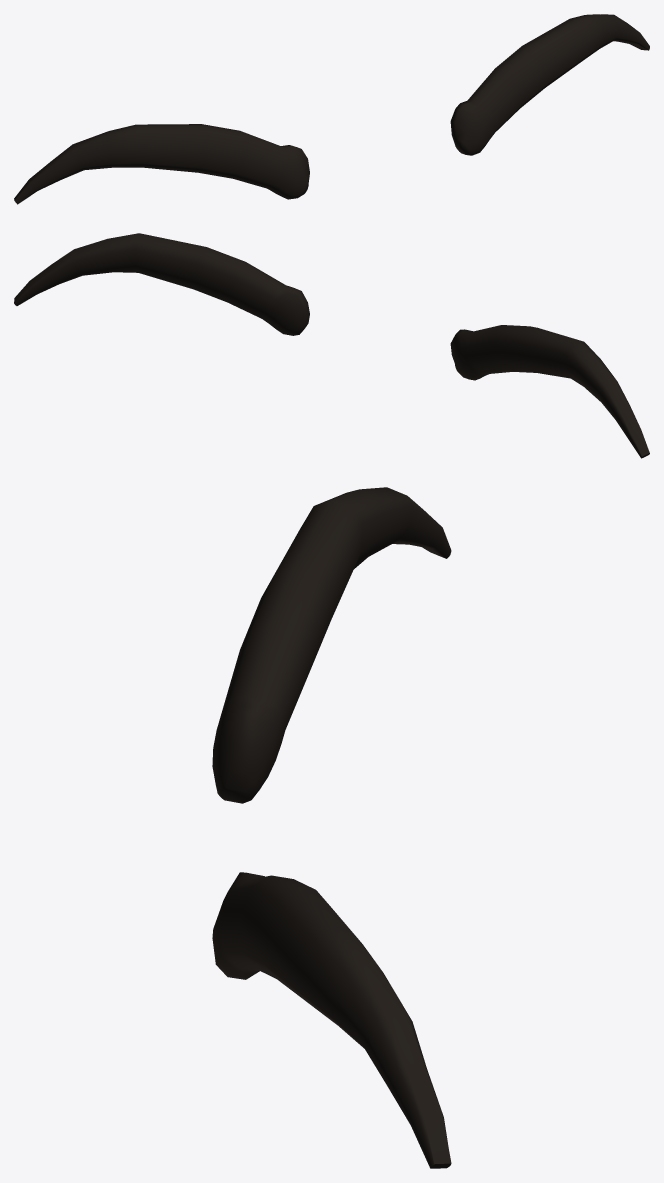
Rendered from Eyebrows_05_01.fbx.
3 views of the same model, one above another, from view 1: azimuth 30°, elevation 25°; view 2: azimuth 150°, elevation 25°; view 3: azimuth 270°, elevation 25° (orthographic). The views are drawn at different scales.
Visible parts, largest first — view 1: Eyebrows_05_01; view 2: Eyebrows_05_01; view 3: Eyebrows_05_01.
Boxes of the visible parts, <box> form: Eyebrows_05_01: <box>14,14,649,204</box>; Eyebrows_05_01: <box>14,233,649,458</box>; Eyebrows_05_01: <box>212,487,451,1168</box>.
Size of the model in its own units: 19.76 by 2.56 by 3.22.
